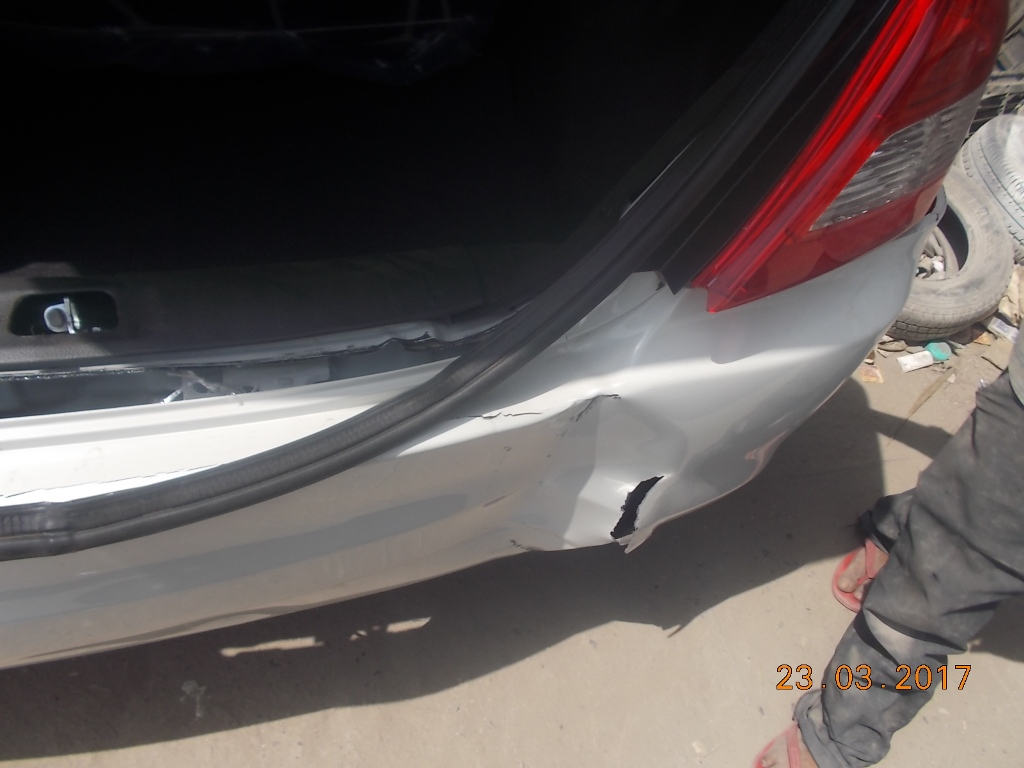Dent: (531, 390, 610, 537)
Tear: (613, 480, 664, 539)
